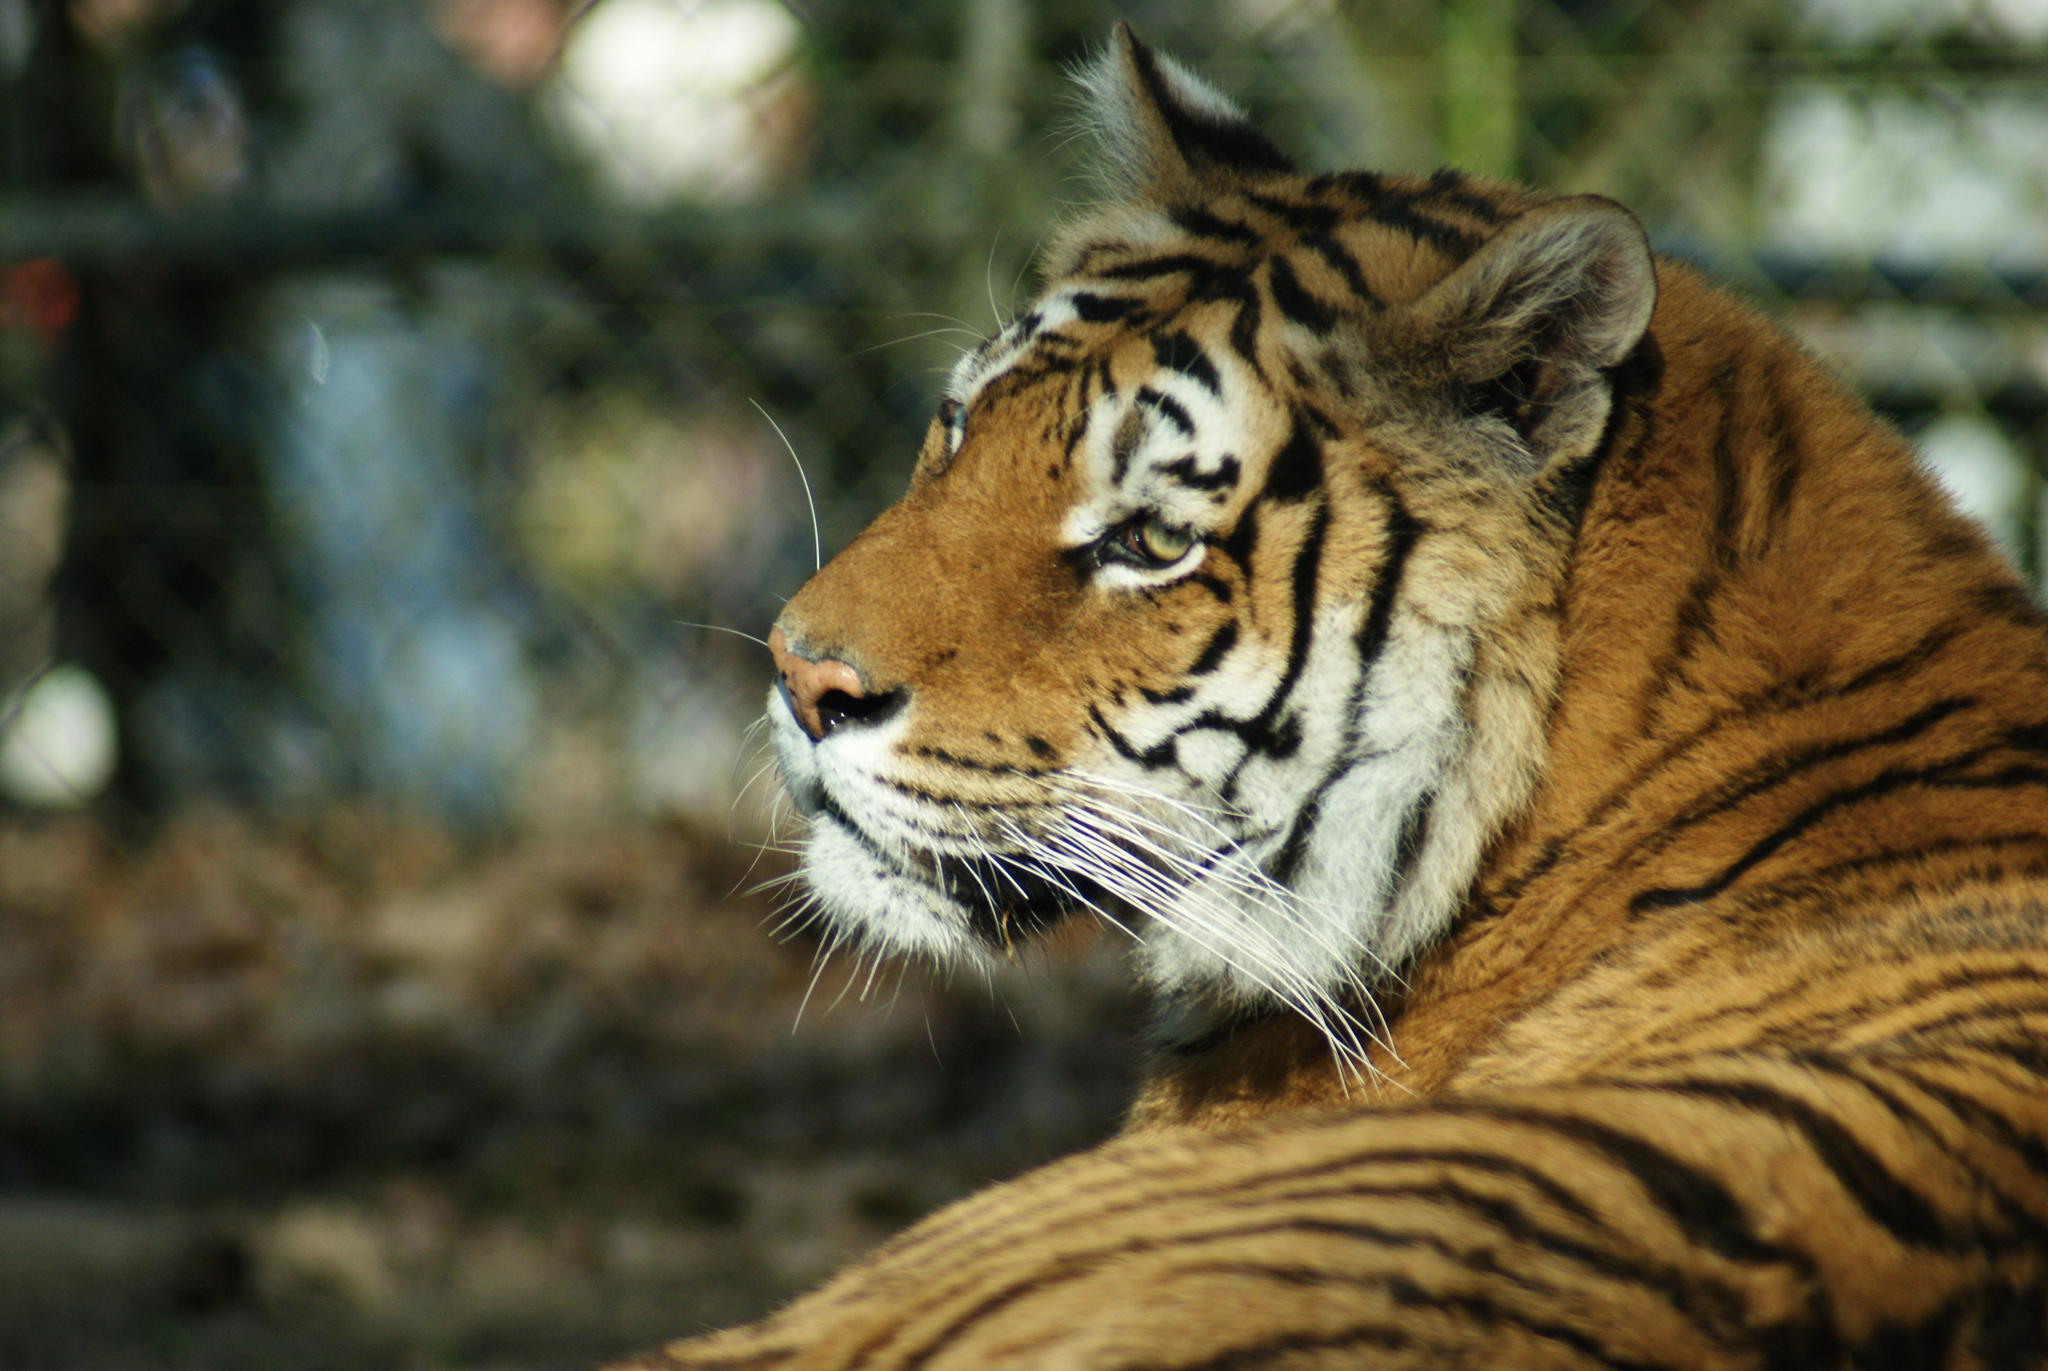tiger: (629, 70, 2017, 1337)
